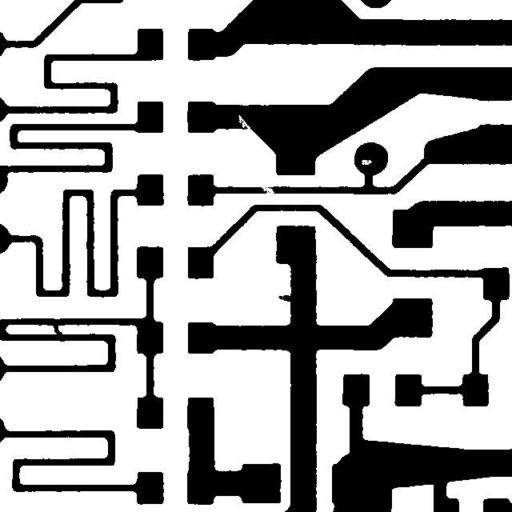mousebite: (230, 107, 258, 138)
open: (254, 178, 282, 204)
pin-hole: (354, 152, 379, 172)
short: (45, 315, 70, 343)
spur: (270, 287, 302, 310)
